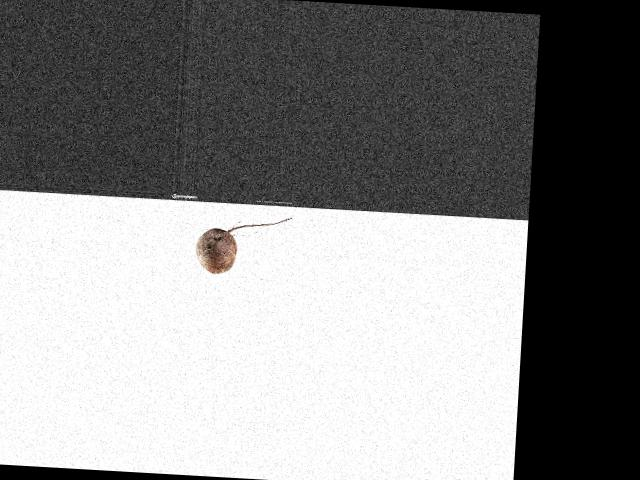beet: (195, 212, 292, 277)
